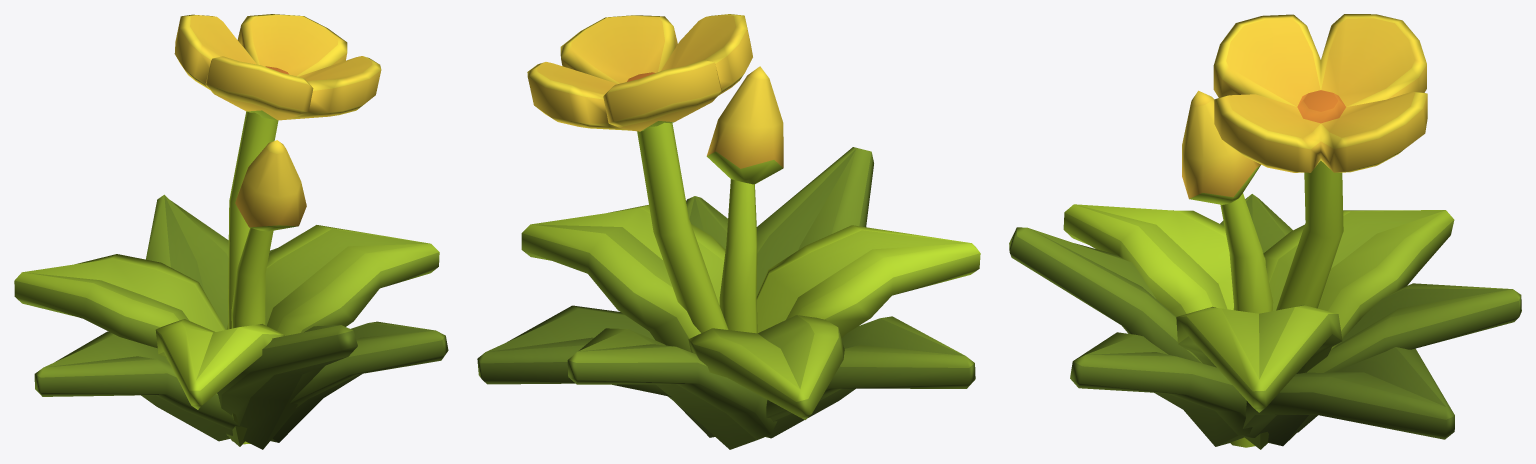
The model's file is dandelion_flower_big_and_small_LOD_group.fbx.
3 views of the same model, side by side, from view 1: azimuth 30°, elevation 25°; view 2: azimuth 150°, elevation 25°; view 3: azimuth 270°, elevation 25° (orthographic). The views are drawn at different scales.
Visible parts, largest first — view 1: dandelion_flower_big_and_small_LOD0; view 2: dandelion_flower_big_and_small_LOD0; view 3: dandelion_flower_big_and_small_LOD0.
Boxes of the visible parts, x1,y1,x2,y2 form: dandelion_flower_big_and_small_LOD0: [14, 14, 448, 449]; dandelion_flower_big_and_small_LOD0: [477, 14, 980, 449]; dandelion_flower_big_and_small_LOD0: [1009, 14, 1521, 449].
Size of what is drawn, in the model's own units: 107 by 94.05 by 104.
Materials: 1 (1 with a texture image).
